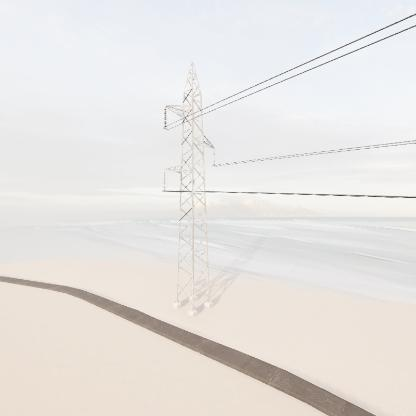tower: (159, 61, 223, 319)
